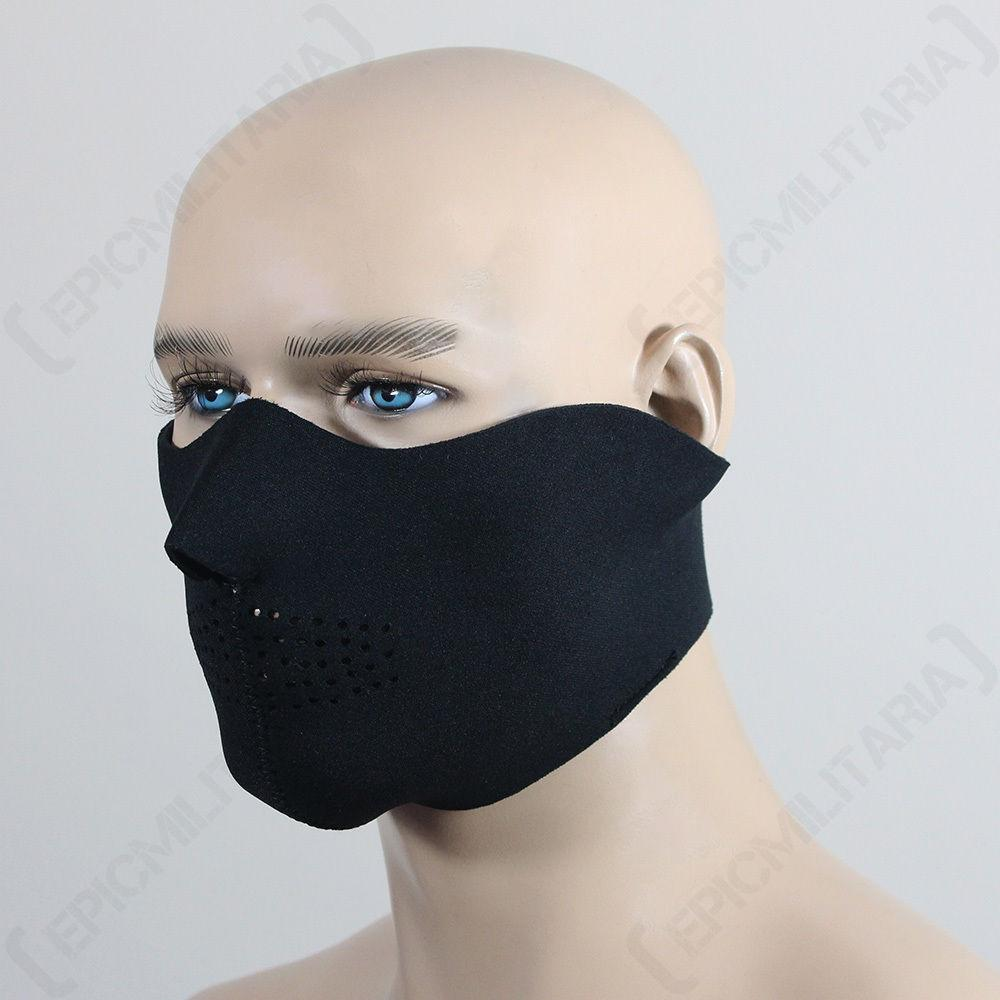Wearing Mask: (105, 114, 788, 916)
